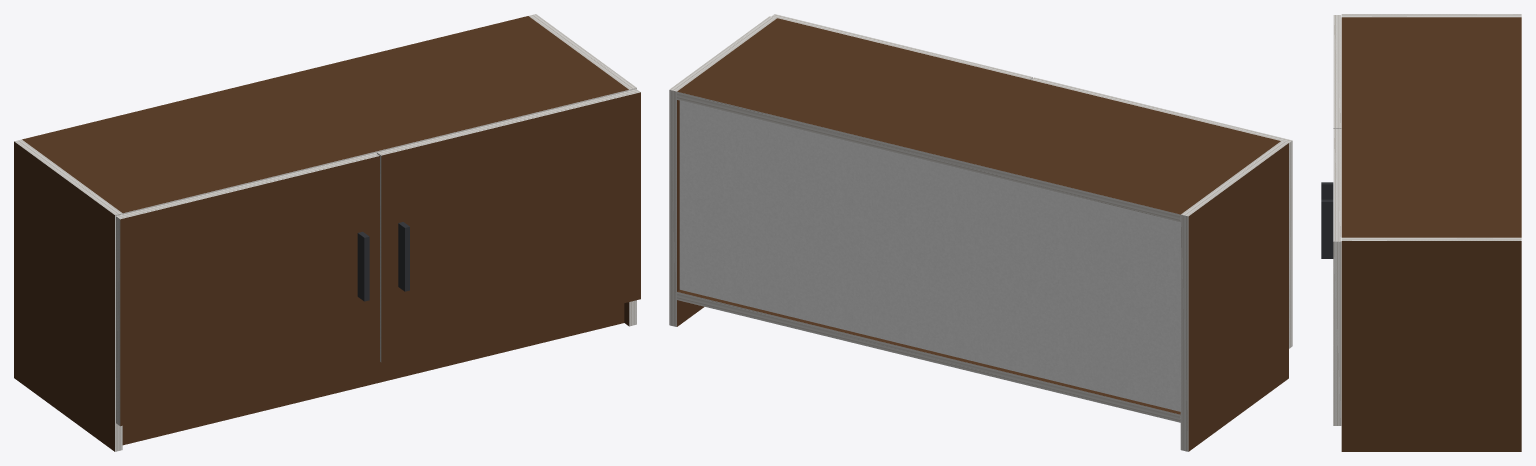
The model's file is ATL-MED-short.glb.
3 renders of one model, left to right at view 1: azimuth 30°, elevation 25°; view 2: azimuth 150°, elevation 25°; view 3: azimuth 270°, elevation 25°, orthographic. The views are drawn at different scales.
Visible parts, largest first — view 1: door-r:pbr, door-l:pbr, top:pbr, side-l:pbr, plinth:pbr, pull, door-l:sheet:eyJtIjoicGx5Iiwic2lkZSI6ImVkZ2UtbG9uZyIsInNlZWQ, door-r:sheet:eyJtIjoicGx5Iiwic2lkZSI6ImVkZ2UtbG9uZyIsInNlZWQ, door-l:sheet:eyJtIjoicGx5Iiwic2lkZSI6ImVkZ2UtZW5kIiwic2VlZCI, top:sheet:eyJtIjoicGx5Iiwic2lkZSI6ImVkZ2UtbG9uZyIsInNlZWQiOj, side-l:sheet:eyJtIjoicGx5Iiwic2lkZSI6ImVkZ2UtZW5kIiwic2VlZCI, side-r:sheet:eyJtIjoicGx5Iiwic2lkZSI6ImVkZ2UtZW5kIiwic2VlZCI; view 2: back:sheet:eyJtIjoibWRmIiwic2lkZSI6ImZhY2UiLCJzZWVkIjoxLCJ0a, top:pbr, side-l:pbr, top:sheet:eyJtIjoicGx5Iiwic2lkZSI6ImVkZ2UtbG9uZyIsInNlZWQiOj, bottom:sheet:eyJtIjoicGx5Iiwic2lkZSI6ImVkZ2UtbG9uZyIsInNlZWQ, side-l:sheet:eyJtIjoicGx5Iiwic2lkZSI6ImVkZ2UtbG9uZyIsInNlZWQ, side-r:sheet:eyJtIjoicGx5Iiwic2lkZSI6ImVkZ2UtbG9uZyIsInNlZWQ, bottom:pbr, door-r:sheet:eyJtIjoicGx5Iiwic2lkZSI6ImVkZ2UtbG9uZyIsInNlZWQ, door-l:sheet:eyJtIjoicGx5Iiwic2lkZSI6ImVkZ2UtbG9uZyIsInNlZWQ, side-r:pbr, side-l:sheet:eyJtIjoicGx5Iiwic2lkZSI6ImVkZ2UtZW5kIiwic2VlZCI (+2 smaller); view 3: top:pbr, side-r:pbr, door-r:sheet:eyJtIjoicGx5Iiwic2lkZSI6ImVkZ2UtZW5kIiwic2VlZCI, door-r:sheet:eyJtIjoicGx5Iiwic2lkZSI6ImVkZ2UtbG9uZyIsInNlZWQ, door-l:sheet:eyJtIjoicGx5Iiwic2lkZSI6ImVkZ2UtbG9uZyIsInNlZWQ, pull, side-l:sheet:eyJtIjoicGx5Iiwic2lkZSI6ImVkZ2UtZW5kIiwic2VlZCI, side-r:sheet:eyJtIjoicGx5Iiwic2lkZSI6ImVkZ2UtZW5kIiwic2VlZCI.
Boxes of the visible parts, <box> form: door-r:pbr: <box>381,92,640,362</box>; door-l:pbr: <box>120,156,379,425</box>; top:pbr: <box>22,16,628,213</box>; side-l:pbr: <box>14,141,114,451</box>; plinth:pbr: <box>122,303,624,445</box>; pull: <box>357,222,409,301</box>; door-l:sheet:eyJtIjoicGx5Iiwic2lkZSI6ImVkZ2UtbG9uZyIsInNlZWQ: <box>116,153,379,219</box>; door-r:sheet:eyJtIjoicGx5Iiwic2lkZSI6ImVkZ2UtbG9uZyIsInNlZWQ: <box>377,89,640,155</box>; door-l:sheet:eyJtIjoicGx5Iiwic2lkZSI6ImVkZ2UtZW5kIiwic2VlZCI: <box>116,216,120,425</box>; top:sheet:eyJtIjoicGx5Iiwic2lkZSI6ImVkZ2UtbG9uZyIsInNlZWQiOj: <box>122,90,629,214</box>; side-l:sheet:eyJtIjoicGx5Iiwic2lkZSI6ImVkZ2UtZW5kIiwic2VlZCI: <box>14,139,122,214</box>; side-r:sheet:eyJtIjoicGx5Iiwic2lkZSI6ImVkZ2UtZW5kIiwic2VlZCI: <box>529,14,636,89</box>; back:sheet:eyJtIjoibWRmIiwic2lkZSI6ImZhY2UiLCJzZWVkIjoxLCJ0a: <box>679,100,1180,411</box>; top:pbr: <box>677,18,1280,214</box>; side-l:pbr: <box>1188,143,1288,451</box>; top:sheet:eyJtIjoicGx5Iiwic2lkZSI6ImVkZ2UtbG9uZyIsInNlZWQiOj: <box>677,91,1180,222</box>; bottom:sheet:eyJtIjoicGx5Iiwic2lkZSI6ImVkZ2UtbG9uZyIsInNlZWQ: <box>677,292,1180,422</box>; side-l:sheet:eyJtIjoicGx5Iiwic2lkZSI6ImVkZ2UtbG9uZyIsInNlZWQ: <box>1180,214,1188,451</box>; side-r:sheet:eyJtIjoicGx5Iiwic2lkZSI6ImVkZ2UtbG9uZyIsInNlZWQ: <box>669,90,676,326</box>; bottom:pbr: <box>677,290,1180,414</box>; door-r:sheet:eyJtIjoicGx5Iiwic2lkZSI6ImVkZ2UtbG9uZyIsInNlZWQ: <box>771,14,1032,79</box>; door-l:sheet:eyJtIjoicGx5Iiwic2lkZSI6ImVkZ2UtbG9uZyIsInNlZWQ: <box>1031,77,1292,142</box>; side-r:pbr: <box>677,100,704,326</box>; side-l:sheet:eyJtIjoicGx5Iiwic2lkZSI6ImVkZ2UtZW5kIiwic2VlZCI: <box>1181,141,1288,216</box>; top:pbr: <box>1341,17,1521,237</box>; side-r:pbr: <box>1341,241,1521,451</box>; door-r:sheet:eyJtIjoicGx5Iiwic2lkZSI6ImVkZ2UtZW5kIiwic2VlZCI: <box>1333,241,1341,425</box>; door-r:sheet:eyJtIjoicGx5Iiwic2lkZSI6ImVkZ2UtbG9uZyIsInNlZWQ: <box>1333,128,1341,241</box>; door-l:sheet:eyJtIjoicGx5Iiwic2lkZSI6ImVkZ2UtbG9uZyIsInNlZWQ: <box>1333,15,1341,127</box>; pull: <box>1321,182,1333,258</box>; side-l:sheet:eyJtIjoicGx5Iiwic2lkZSI6ImVkZ2UtZW5kIiwic2VlZCI: <box>1341,14,1521,17</box>; side-r:sheet:eyJtIjoicGx5Iiwic2lkZSI6ImVkZ2UtZW5kIiwic2VlZCI: <box>1341,237,1521,240</box>.
Bounding box in the file's own units: 1.2 × 0.52 × 0.4468.
34 materials, 23 textured.
